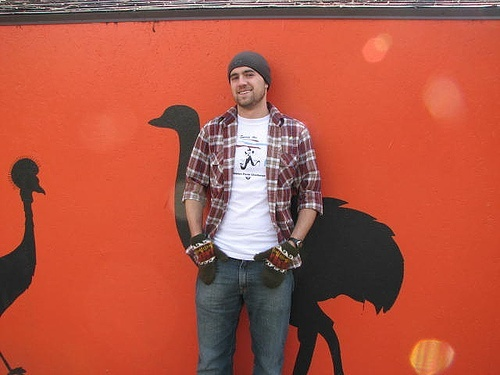head: (222, 51, 276, 111)
person: (177, 45, 323, 375)
